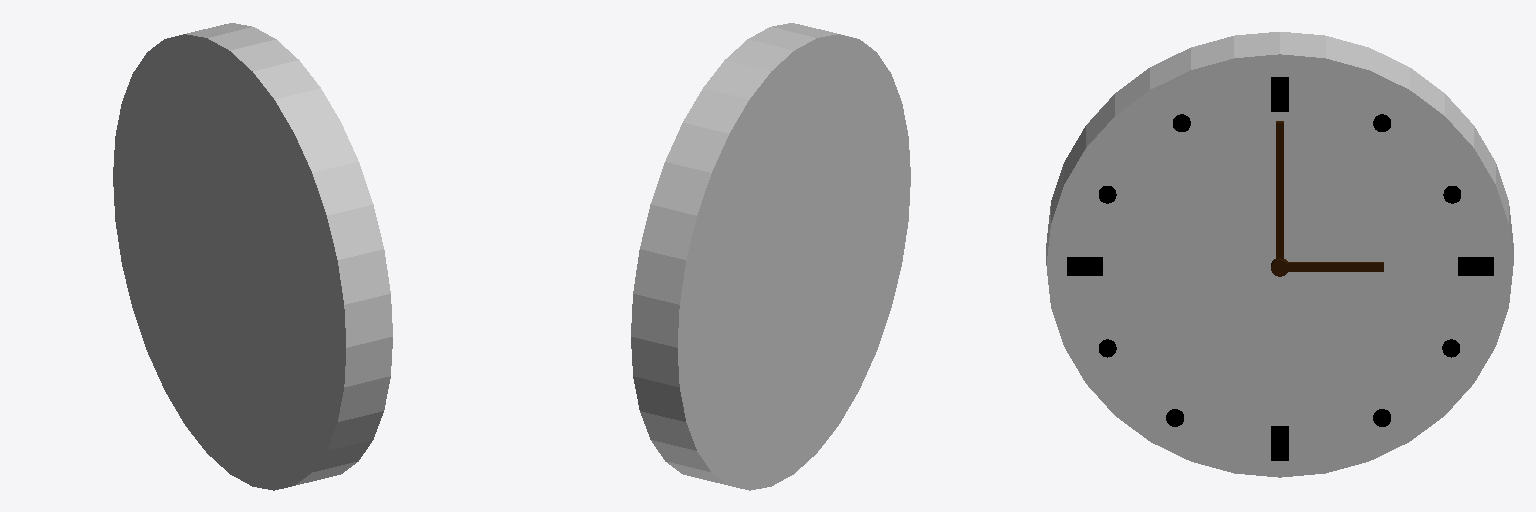
Rendered from KlokMiddag.obj.
3 renders of one model, left to right at view 1: azimuth 30°, elevation 25°; view 2: azimuth 150°, elevation 25°; view 3: azimuth 270°, elevation 25°, orthographic.
Parts seen in each view (by area): view 1: KlokBasis_Cylinder; view 2: KlokBasis_Cylinder; view 3: KlokBasis_Cylinder, GroteWijzer_Cube.006, KleinWijzer_Cube.007, EenVanVier.002_Cube.003, EenVanVier.003_Cube.004, EenVanVier_Cube.001, EenVanVier.001_Cube.002.
Boxes of the visible parts, box(x1,y1,x2,y2) form: KlokBasis_Cylinder: box(113, 23, 392, 490); KlokBasis_Cylinder: box(631, 23, 910, 490); KlokBasis_Cylinder: box(1046, 32, 1513, 477); GroteWijzer_Cube.006: box(1276, 121, 1283, 259); KleinWijzer_Cube.007: box(1288, 262, 1383, 271); EenVanVier.002_Cube.003: box(1458, 257, 1493, 275); EenVanVier.003_Cube.004: box(1067, 257, 1102, 275); EenVanVier_Cube.001: box(1271, 77, 1288, 111); EenVanVier.001_Cube.002: box(1271, 426, 1288, 460).
Size of the model in its own units: 0.0338 by 0.26 by 0.26.